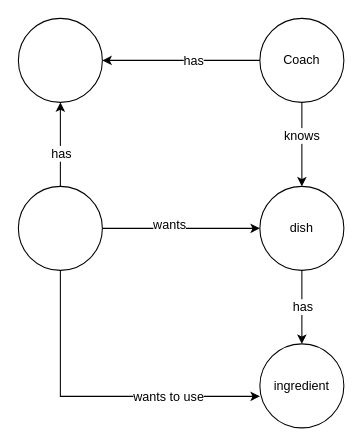
The diagram is 362 pixels wide and 446 high, and some of its shapes have lost their labels. Each missing label, with the box of its shape:
appointment: (17, 17, 102, 102)
seeker: (17, 185, 102, 270)
